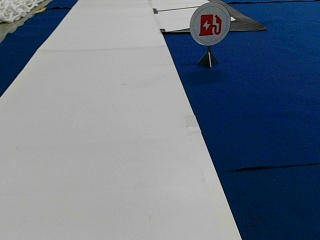battery: (188, 0, 231, 47)
